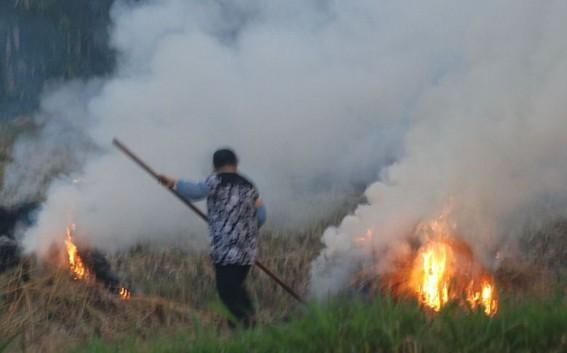fire: (387, 207, 502, 317), (54, 226, 84, 280), (358, 224, 376, 246), (113, 286, 129, 297)
